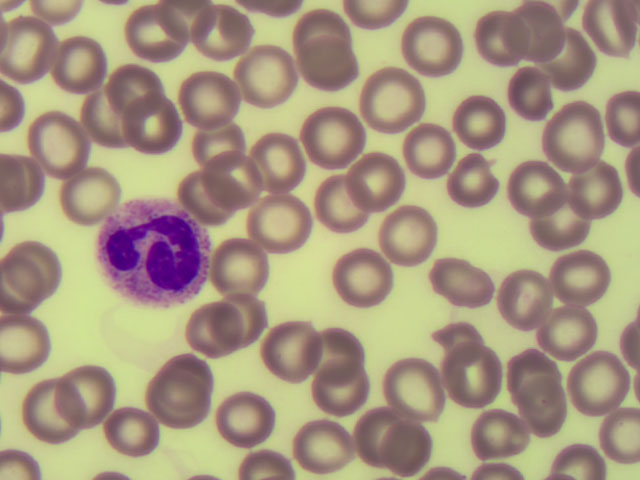RBC: (375, 422, 434, 480), (293, 422, 352, 480), (51, 35, 110, 92), (80, 88, 139, 145), (102, 54, 161, 111), (127, 103, 186, 160), (24, 109, 83, 166), (62, 164, 121, 221), (12, 238, 71, 295), (20, 384, 79, 441), (63, 363, 122, 420), (103, 407, 162, 464), (154, 373, 213, 430), (161, 343, 220, 400), (177, 303, 236, 360), (210, 290, 269, 347), (210, 235, 269, 292), (249, 190, 308, 247), (172, 171, 231, 228), (196, 153, 255, 210), (185, 114, 244, 171), (245, 135, 304, 192), (176, 69, 235, 126), (196, 7, 255, 64), (122, 9, 181, 66), (238, 53, 297, 110), (285, 7, 344, 64), (305, 44, 364, 101), (360, 72, 419, 129), (299, 103, 358, 160), (312, 179, 371, 236), (345, 149, 404, 206), (396, 122, 455, 179), (445, 91, 504, 148), (455, 151, 514, 208), (380, 203, 439, 260), (341, 248, 400, 305), (501, 156, 560, 213), (545, 102, 604, 159), (501, 66, 560, 123), (527, 33, 586, 90), (510, 2, 569, 59), (475, 5, 534, 62), (410, 21, 469, 78), (571, 160, 630, 217), (531, 192, 590, 249), (496, 277, 555, 334), (430, 253, 489, 310), (437, 313, 496, 370), (457, 352, 516, 409), (393, 353, 452, 410), (336, 406, 395, 463), (303, 371, 362, 428), (297, 322, 356, 379), (272, 315, 331, 372), (221, 391, 280, 448), (463, 404, 522, 461), (502, 377, 561, 434), (504, 342, 563, 399), (543, 308, 602, 365), (550, 250, 609, 307), (569, 349, 628, 406), (581, 3, 640, 60), (1, 20, 59, 77), (1, 304, 59, 361), (161, 1, 220, 57)
WBC: (99, 199, 209, 303)
